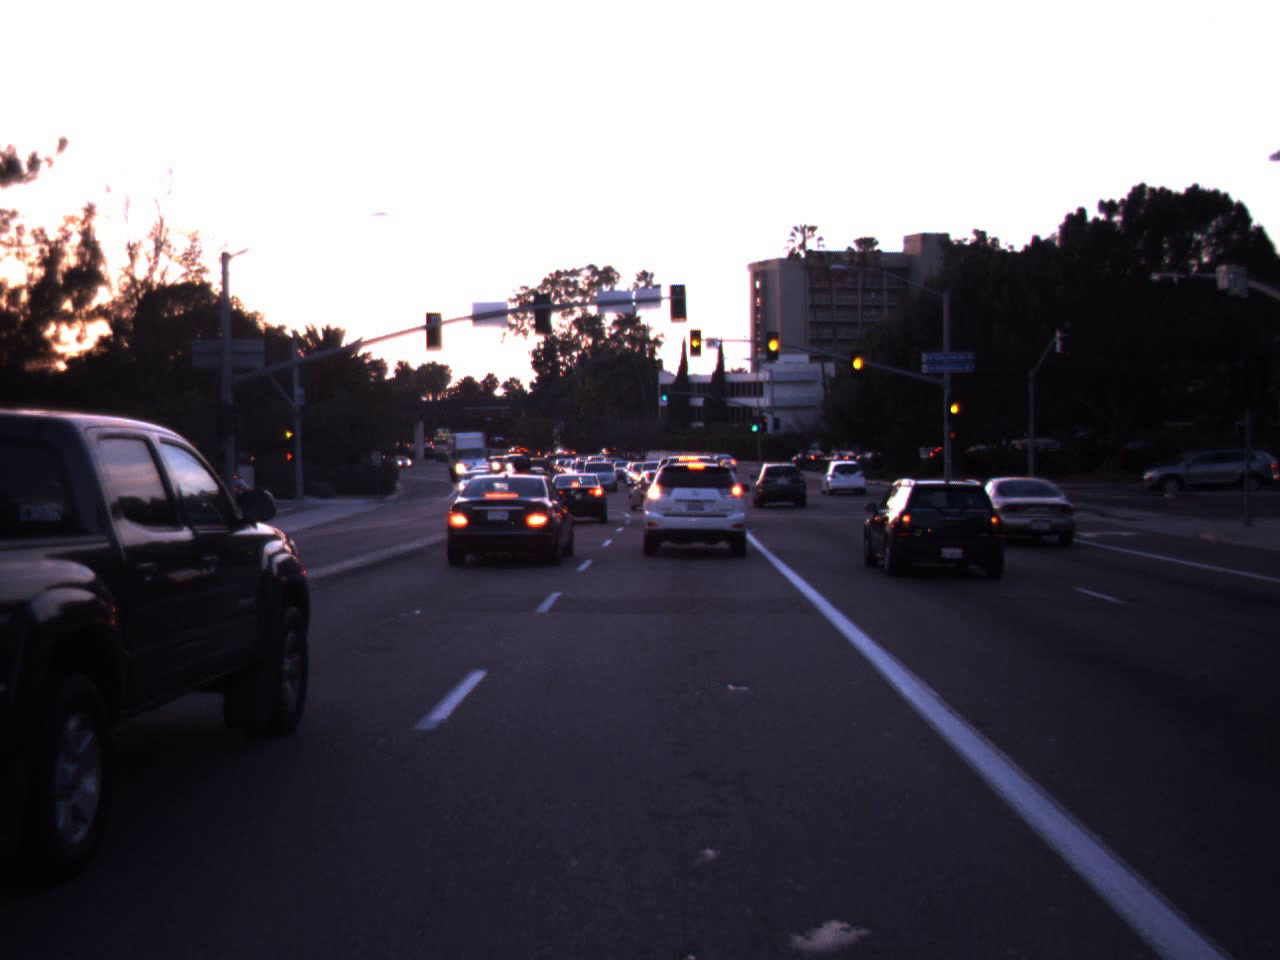go: (658, 382, 670, 402), (748, 412, 760, 432)
warning: (760, 320, 787, 365), (848, 336, 869, 385), (685, 328, 706, 355), (948, 389, 963, 425), (282, 422, 297, 444)
